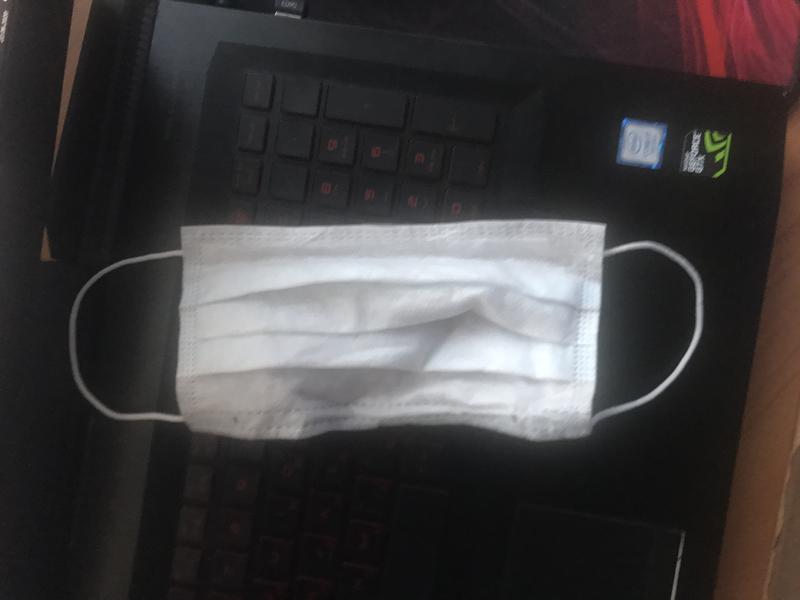medical_mask: (64, 218, 702, 442)
